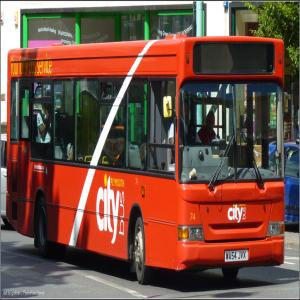Vehicle-registration-plate: (225, 251, 249, 265)
